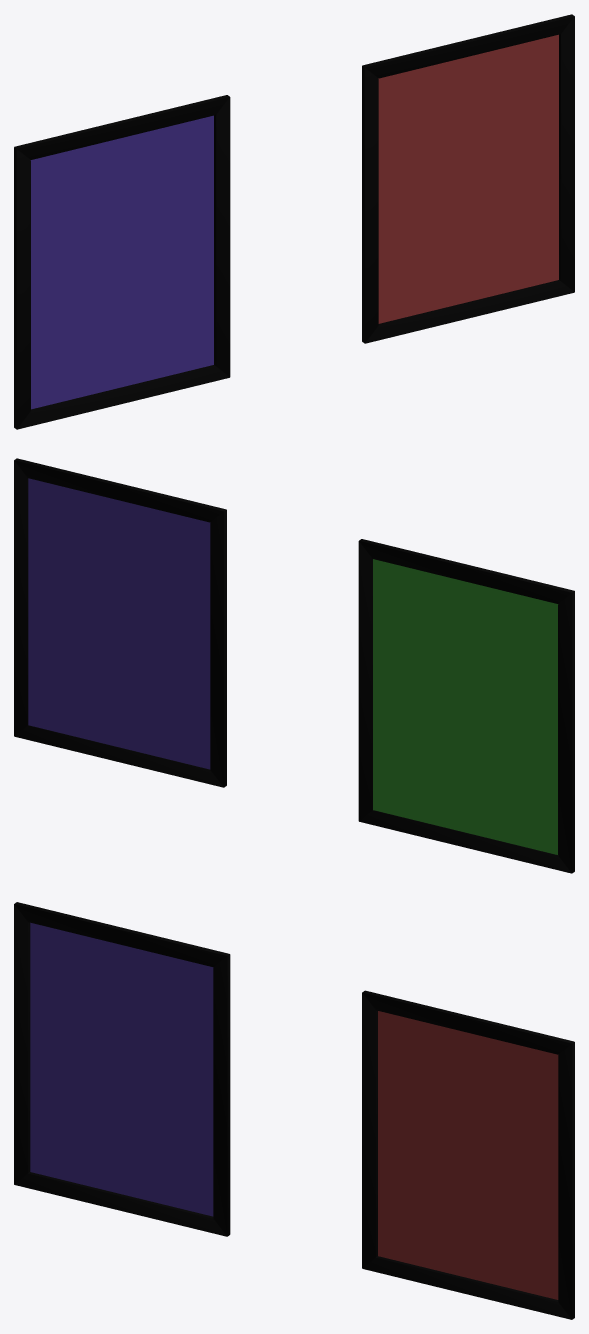
The model's file is Collection of paintings by Mark McDowell's and John-Richard.FBX.
3 renders of one model, top to bottom at view 1: azimuth 30°, elevation 25°; view 2: azimuth 150°, elevation 25°; view 3: azimuth 330°, elevation 25°, orthographic.
Visible parts, largest first — view 1: Plane003, Object002; view 2: Plane003, Object002; view 3: Plane003, Object002.
Part boxes in pixels (bbox=[...]): Plane003: bbox=[14, 95, 230, 429]; Object002: bbox=[362, 14, 574, 343]; Plane003: bbox=[358, 539, 574, 873]; Object002: bbox=[14, 458, 226, 787]; Plane003: bbox=[14, 902, 230, 1236]; Object002: bbox=[362, 990, 574, 1319].
Bounding box in the file's own units: 1490 × 717 × 12.67.
